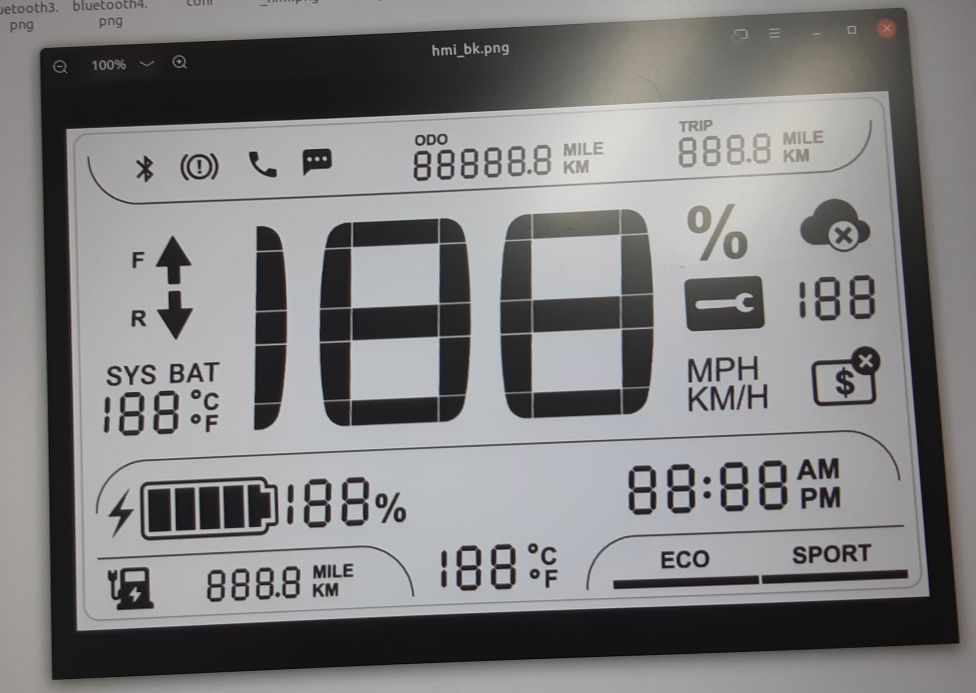bluetooth_on: (132, 152, 162, 185)
braking_on: (176, 149, 222, 183)
calling_on: (244, 148, 283, 183)
connection_lost: (797, 195, 873, 255)
error_code: (680, 272, 770, 333)
low_battery: (105, 564, 160, 613)
sms_on: (298, 146, 335, 180)
vin_id: (808, 345, 882, 408)
